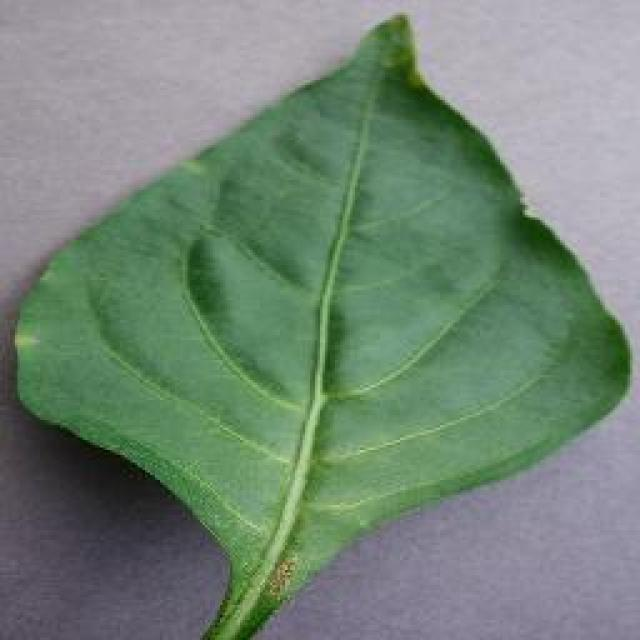Chilli_Healthy: (10, 10, 632, 638)
